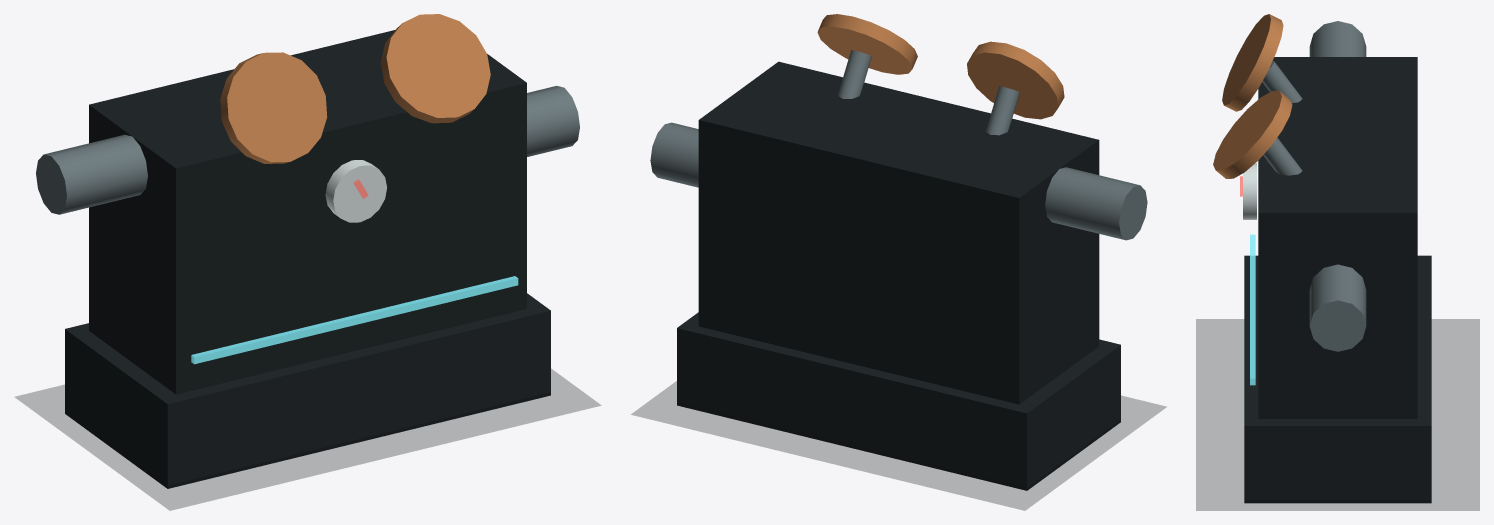
Rendered from hp_room_rm_core_coolant_manifold.glb.
3 renders of one model, left to right at view 1: azimuth 30°, elevation 25°; view 2: azimuth 150°, elevation 25°; view 3: azimuth 270°, elevation 25°, orthographic. The views are drawn at different scales.
Visible parts, largest first — view 1: manifold_block, block_foot, contact_shadow, wheel_-0.3, wheel_0.3, feed_pipe_l, flow_line, feed_pipe_r, gauge_center; view 2: manifold_block, block_foot, contact_shadow, feed_pipe_l, wheel_-0.3, wheel_0.3, feed_pipe_r, wheel_stem_-0.3, wheel_stem_0.3; view 3: manifold_block, block_foot, contact_shadow, feed_pipe_r, wheel_0.3, wheel_-0.3, feed_pipe_l, flow_line, wheel_stem_0.3, wheel_stem_-0.3, gauge_center.
Part boxes in pixels (left/top/right/bottom): manifold_block: left=89, top=30, right=526, bottom=394; block_foot: left=65, top=293, right=550, bottom=488; contact_shadow: left=15, top=369, right=600, bottom=510; wheel_-0.3: left=220, top=52, right=327, bottom=163; wheel_0.3: left=380, top=14, right=490, bottom=123; feed_pipe_l: left=36, top=134, right=147, bottom=214; flow_line: left=191, top=276, right=518, bottom=364; feed_pipe_r: left=527, top=86, right=579, bottom=156; gauge_center: left=325, top=160, right=387, bottom=222; manifold_block: left=698, top=61, right=1099, bottom=404; block_foot: left=677, top=312, right=1120, bottom=490; contact_shadow: left=631, top=381, right=1166, bottom=510; feed_pipe_l: left=1045, top=167, right=1147, bottom=240; wheel_-0.3: left=967, top=41, right=1064, bottom=119; wheel_0.3: left=817, top=14, right=917, bottom=74; feed_pipe_r: left=650, top=122, right=698, bottom=187; wheel_stem_-0.3: left=985, top=86, right=1019, bottom=135; wheel_stem_0.3: left=838, top=50, right=871, bottom=98; manifold_block: left=1258, top=57, right=1417, bottom=418; block_foot: left=1244, top=255, right=1431, bottom=503; contact_shadow: left=1196, top=319, right=1479, bottom=510; feed_pipe_r: left=1309, top=264, right=1366, bottom=351; wheel_0.3: left=1213, top=90, right=1292, bottom=178; wheel_-0.3: left=1222, top=14, right=1283, bottom=111; feed_pipe_l: left=1309, top=21, right=1366, bottom=56; flow_line: left=1250, top=234, right=1255, bottom=385; wheel_stem_0.3: left=1263, top=137, right=1302, bottom=175; wheel_stem_-0.3: left=1262, top=61, right=1302, bottom=103; gauge_center: left=1243, top=163, right=1256, bottom=219.
Size of the model in its own units: 1.9 by 1.41 by 1.
